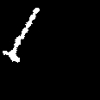half_double_crochet: (3, 8, 38, 61)
